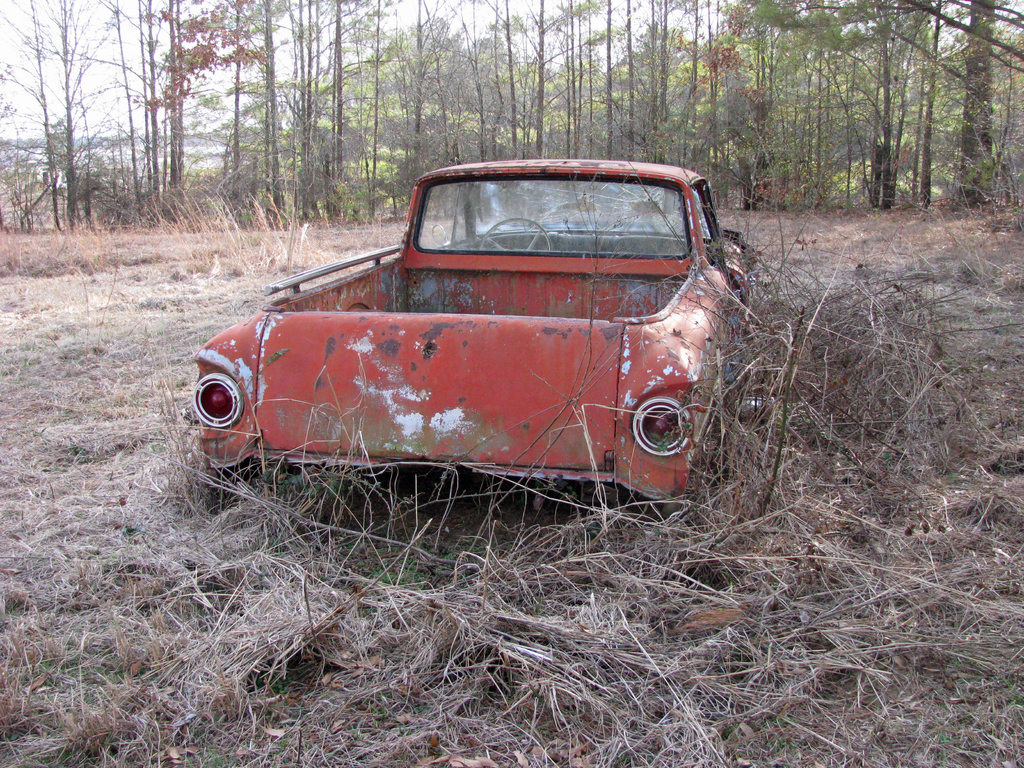Car: (193, 159, 760, 516)
